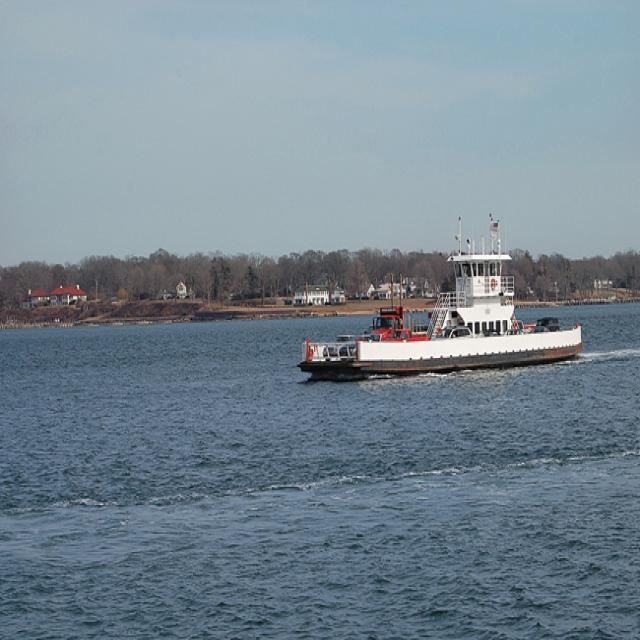cargoship: (289, 239, 589, 375)
